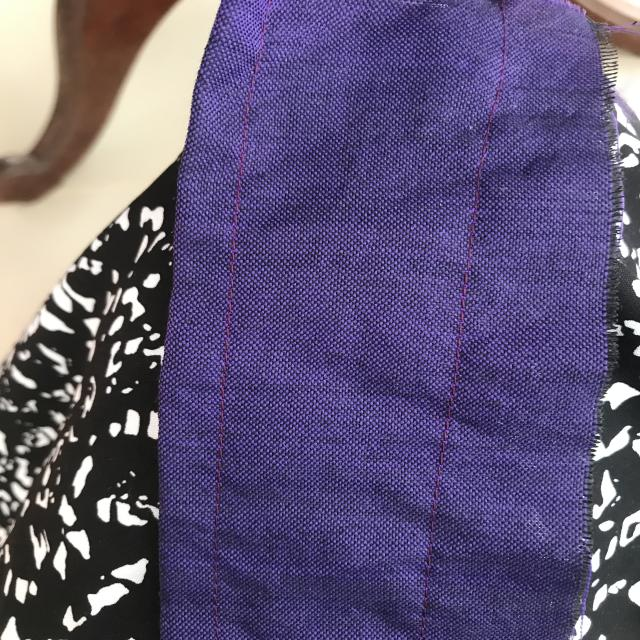good: (214, 208, 254, 331), (200, 380, 228, 552), (450, 248, 475, 381), (430, 412, 453, 523)
